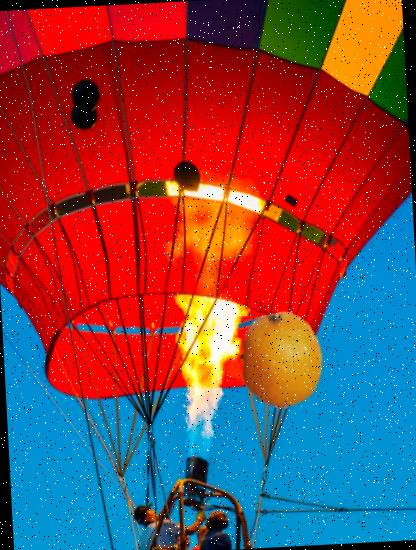Lemon: (231, 309, 332, 410)
